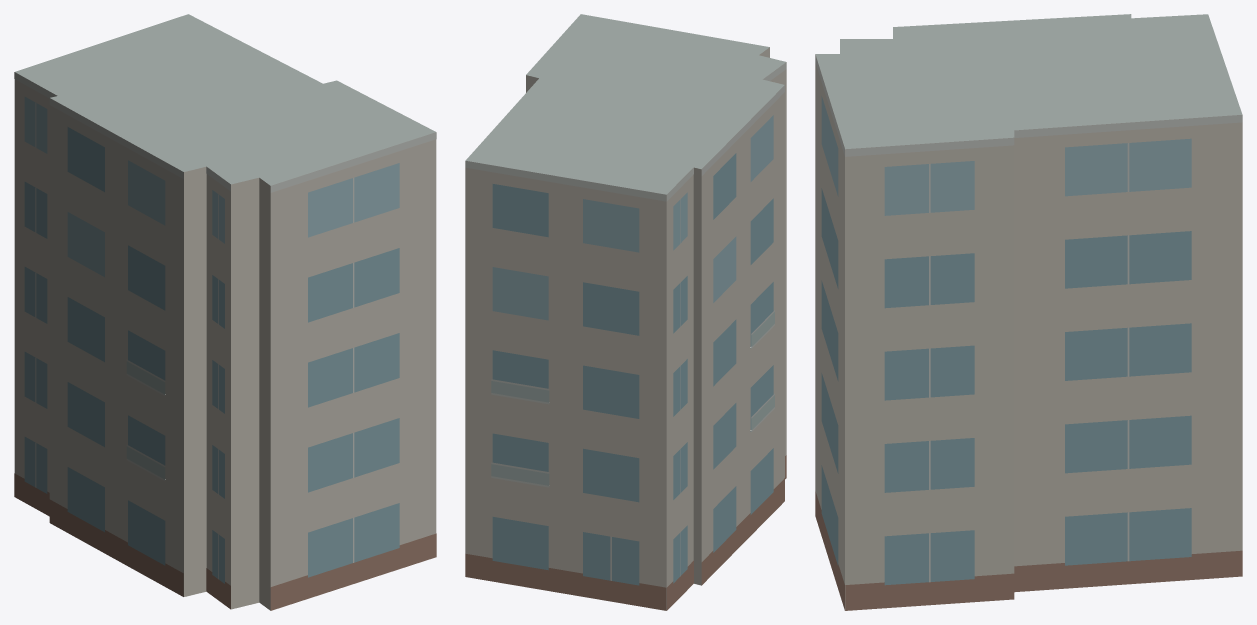
Rendered from survey-upis-32487842.glb.
3 renders of one model, left to right at view 1: azimuth 30°, elevation 25°; view 2: azimuth 150°, elevation 25°; view 3: azimuth 270°, elevation 25°, orthographic. The views are drawn at different scales.
Visible parts, largest first — view 1: survey-upis-32487842.tmp; view 2: survey-upis-32487842.tmp; view 3: survey-upis-32487842.tmp.
Boxes of the visible parts, x1=… form: survey-upis-32487842.tmp: x1=14, y1=14, x2=436, y2=610; survey-upis-32487842.tmp: x1=465, y1=14, x2=786, y2=610; survey-upis-32487842.tmp: x1=815, y1=14, x2=1242, y2=610.
Bounding box in the file's own units: 9.18 × 14.6 × 12.25.
